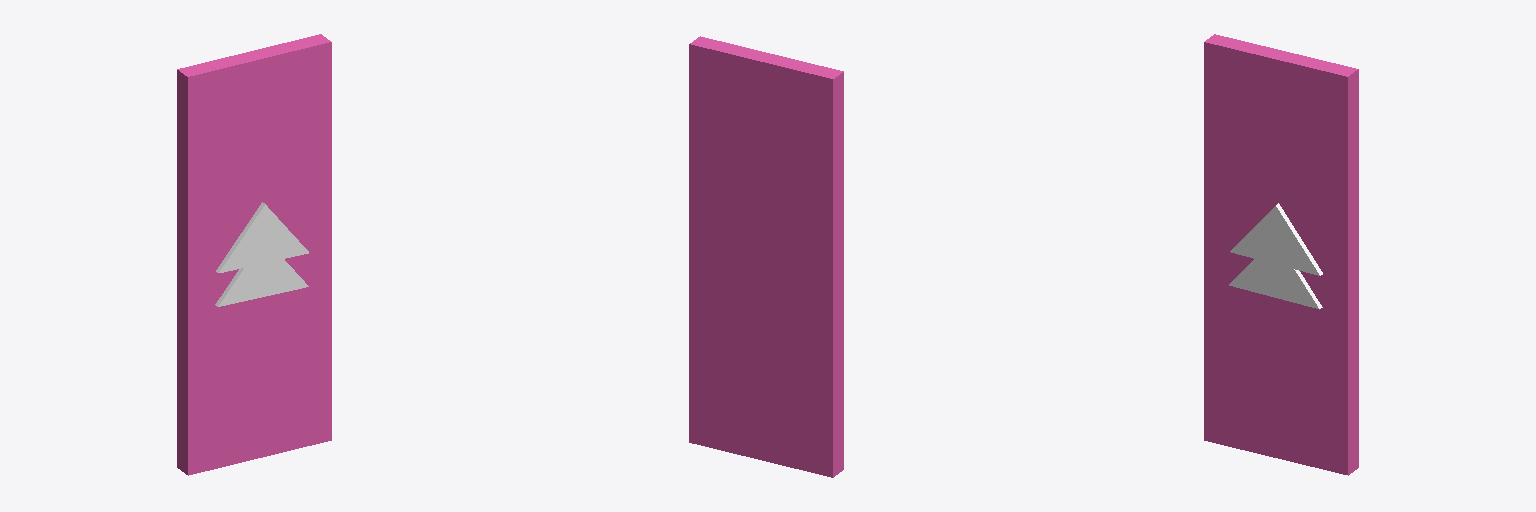
The model's file is shangfan.obj.
The picture shows the model from 3 angles: view 1: azimuth 30°, elevation 25°; view 2: azimuth 150°, elevation 25°; view 3: azimuth 330°, elevation 25°; orthographic projection.
Parts seen in each view (by area): view 1: 立方体_立方体.001, Cube.003_Cube.002; view 2: 立方体_立方体.001; view 3: 立方体_立方体.001, Cube.003_Cube.002.
Boxes of the visible parts, x1,y1,x2,y2 form: 立方体_立方体.001: [177, 34, 331, 475]; Cube.003_Cube.002: [215, 202, 308, 306]; 立方体_立方体.001: [689, 36, 843, 477]; 立方体_立方体.001: [1204, 34, 1358, 475]; Cube.003_Cube.002: [1229, 203, 1322, 309].
Bounding box in the file's own units: 0.5656 × 1.49 × 0.0927.